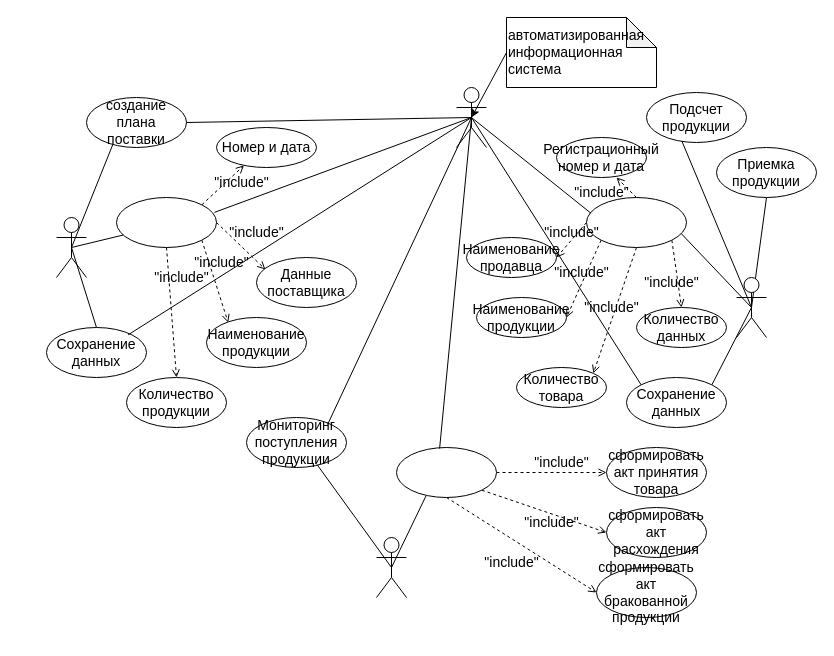
This 834x656 diagram has some shape labels left out. Each missing label, with the centre of its shape:
"АИС" belongs at point 471,117.
"Внесение данных" belongs at point 166,222.
"Занесение данных" belongs at point 636,222.
"Менеджер Инвентаризации" belongs at point 71,247.
"Начальник склада" belongs at point 391,567.
"Работник склада" belongs at point 751,307.
"Формирование документов" belongs at point 446,472.
